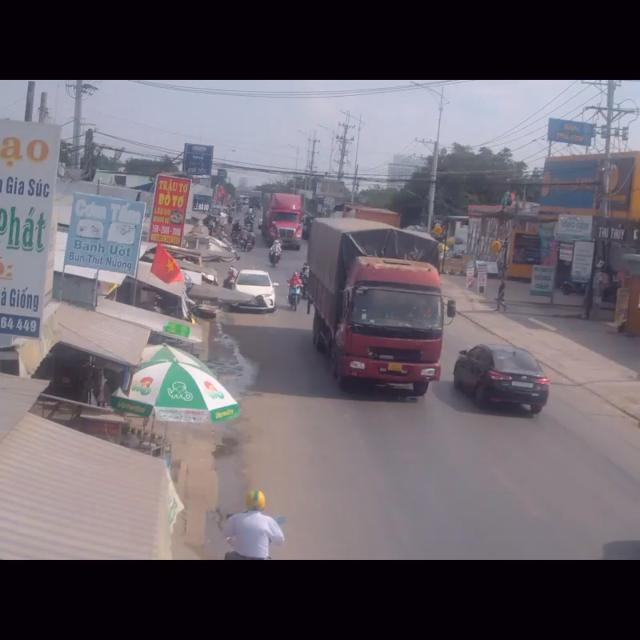car: (452, 343, 547, 409)
motorbike: (218, 489, 278, 557), (283, 272, 302, 310)
truck: (309, 219, 453, 388)
